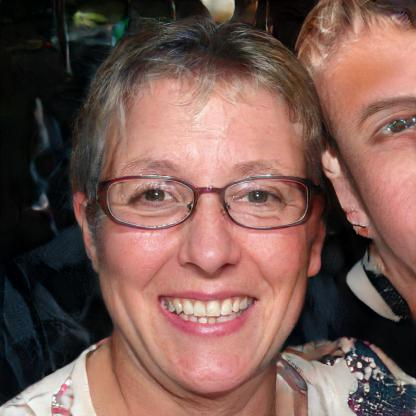glasses: (92, 169, 314, 236)
